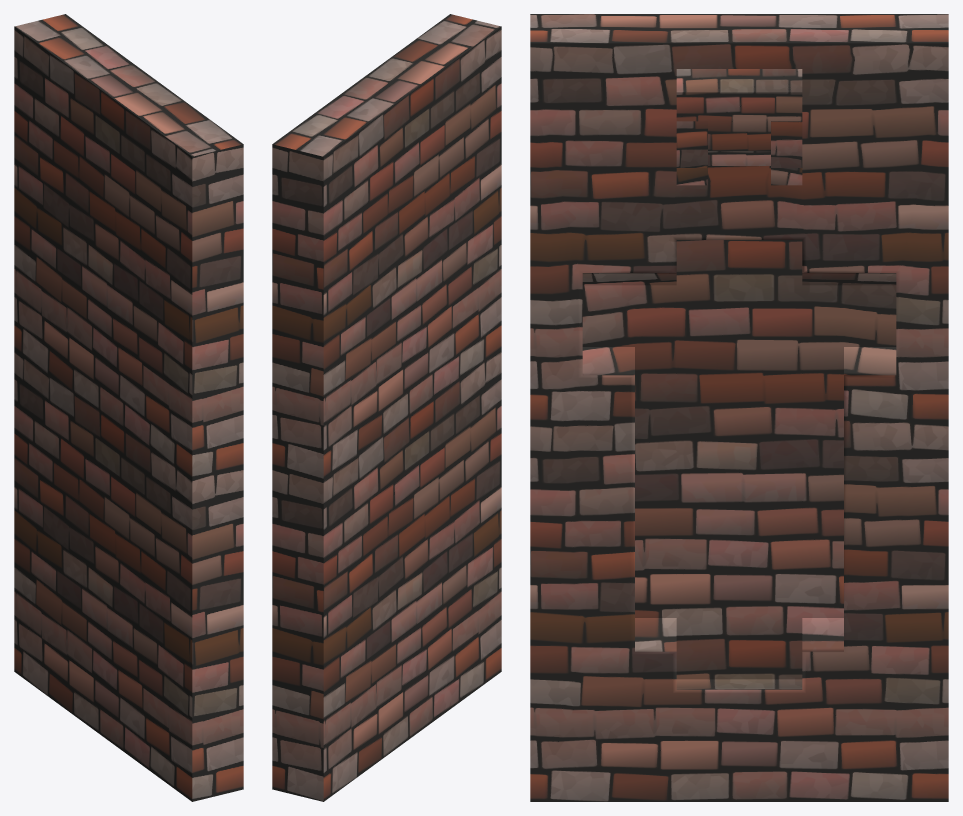
The model's file is SM_Wall_04.fbx.
The picture shows the model from 3 angles, left to right: view 1: azimuth 30°, elevation 25°; view 2: azimuth 150°, elevation 25°; view 3: azimuth 270°, elevation 25°; orthographic projection. The views are drawn at different scales.
Visible parts, largest first — view 1: Wall_Decor_04; view 2: Wall_Decor_04; view 3: Wall_Decor_04.
Part boxes in pixels (bbox=[...]): Wall_Decor_04: bbox=[14, 14, 243, 801]; Wall_Decor_04: bbox=[272, 14, 501, 801]; Wall_Decor_04: bbox=[530, 14, 948, 801].
Bounding box in the file's own units: 0.6294 × 6 × 3.
